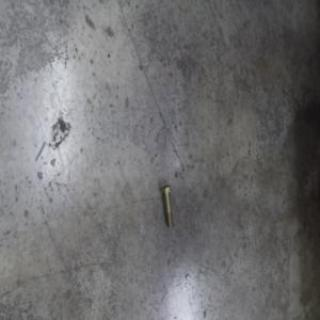Bolttrack_idkeyframe: (165, 185, 179, 231)
